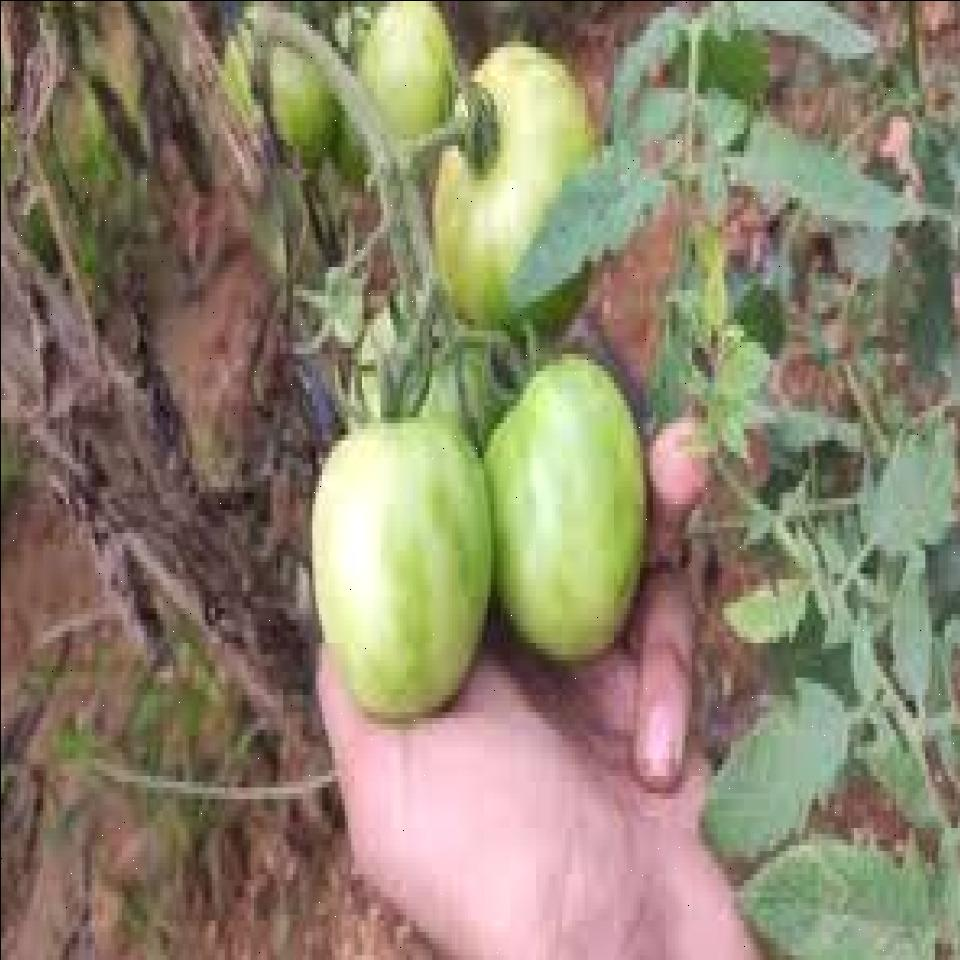Spotted wilt Virus: (306, 413, 494, 724), (482, 350, 650, 680)
